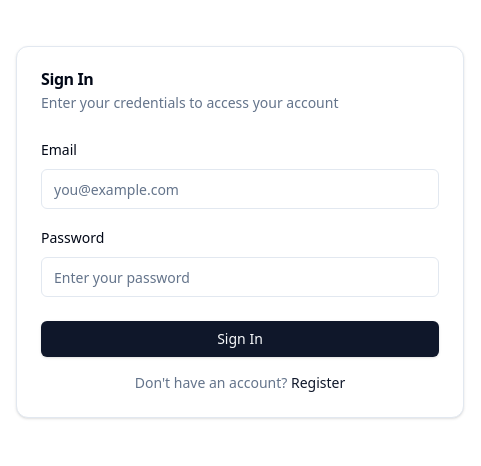
Test: login flow › should show error on invalid credentials
The width and height of the screenshot is (481, 466).
Type "wrong@example.com" into the field with placeholder "you@example.com" at (240, 189), box 41,169 -> 439,209
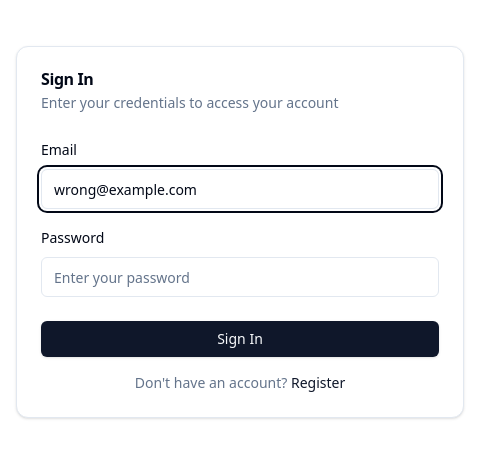
Type "wrongpassword" into the password field with placeholder "Enter your password" at (240, 277), box 41,257 -> 439,297
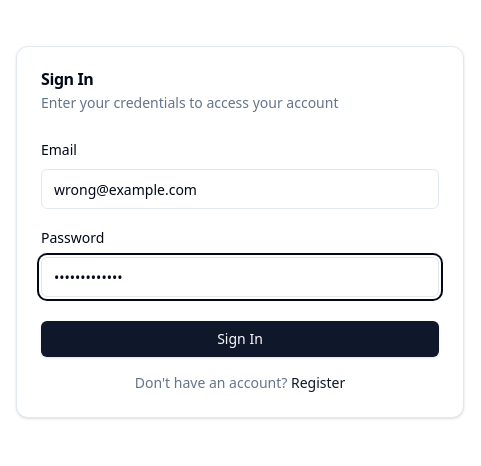
Click the submit button at (240, 339), box 41,321 -> 439,357
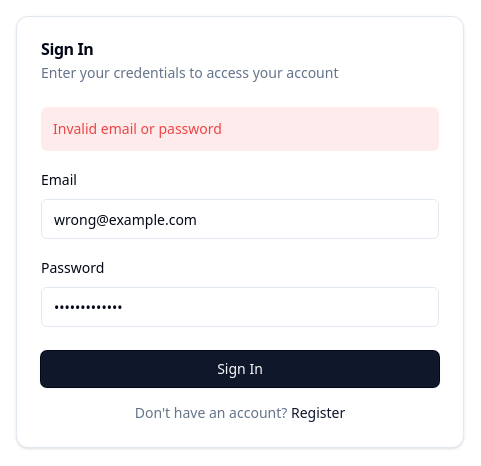
expect the text "Invalid" is shown: met, box 53,119 -> 222,138
